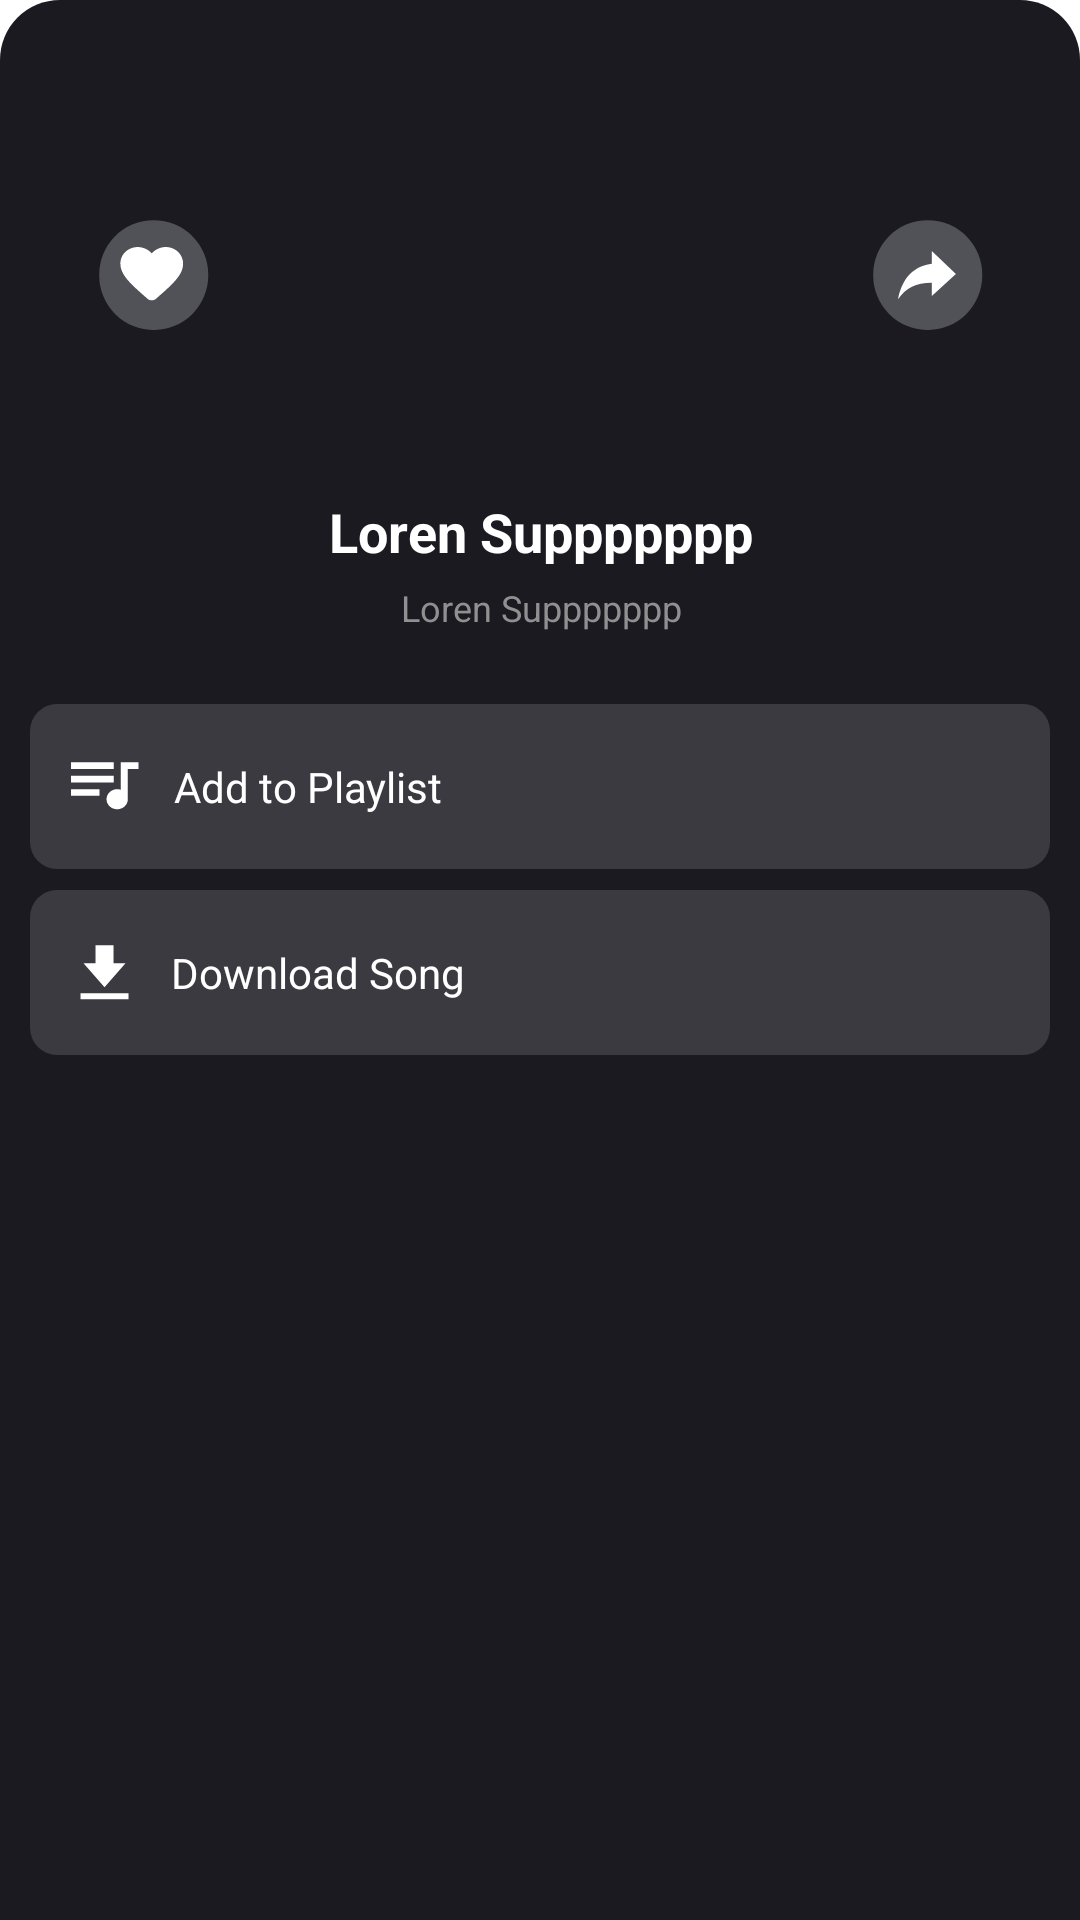

Icon bounding boxes for this 1080px×1920px phone screenshot, format (x1, y1, x2, y2):
favorite: (120, 247, 183, 301)
playlist acitve: (71, 762, 139, 810)
share: (873, 220, 982, 330)
